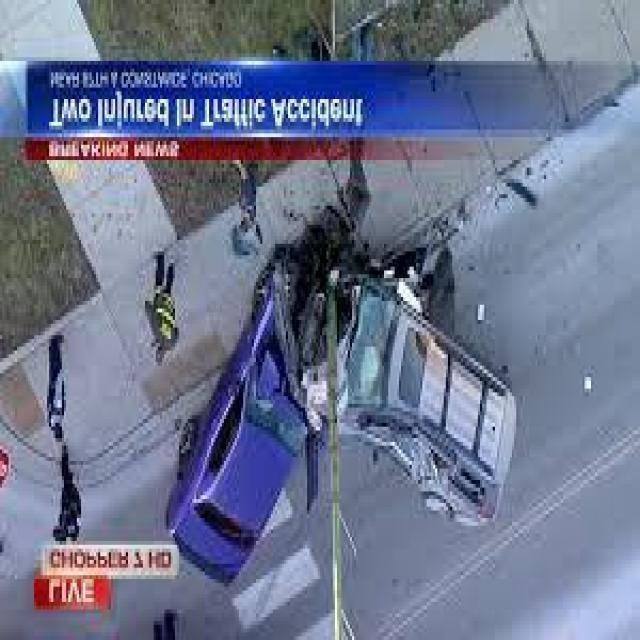severe: (156, 232, 520, 598)
